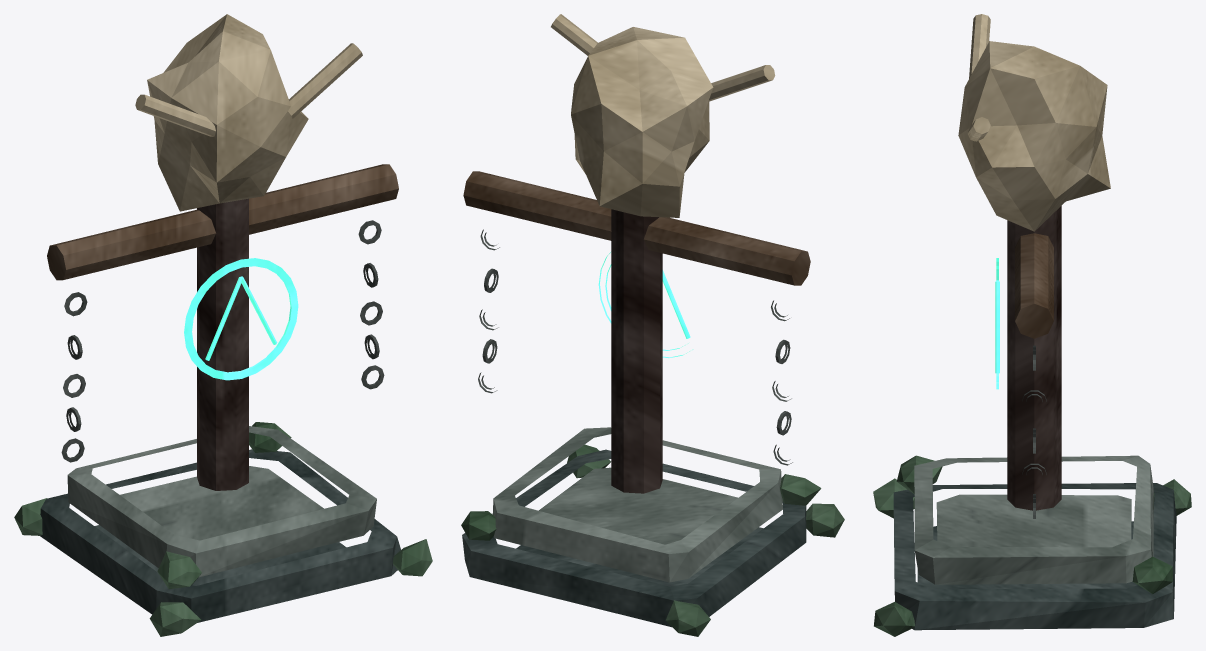
File: 0510_effigy_10.glb
The picture shows the model from 3 angles, left to right: view 1: azimuth 30°, elevation 25°; view 2: azimuth 150°, elevation 25°; view 3: azimuth 270°, elevation 25°; orthographic projection. The views are drawn at different scales.
Visible parts, largest first — view 1: bone, stone, stone_dark, wood_dark, wood, moss, glow, iron; view 2: bone, stone, stone_dark, wood_dark, wood, moss, iron, glow; view 3: bone, stone, stone_dark, wood_dark, moss, wood, glow.
Boxes of the visible parts, x1,y1,x2,y2 form: bone: [135, 14, 362, 211]; stone: [67, 426, 376, 577]; stone_dark: [40, 449, 400, 622]; wood_dark: [197, 198, 248, 490]; wood: [47, 164, 398, 280]; moss: [14, 422, 432, 636]; glow: [184, 258, 298, 380]; iron: [61, 220, 384, 462]; bone: [551, 14, 775, 217]; stone: [492, 427, 782, 582]; stone_dark: [462, 449, 806, 627]; wood_dark: [611, 209, 662, 493]; wood: [463, 171, 810, 285]; moss: [461, 444, 844, 636]; iron: [478, 229, 792, 465]; glow: [598, 252, 693, 358]; bone: [958, 14, 1110, 231]; stone: [914, 455, 1153, 584]; stone_dark: [893, 483, 1176, 630]; wood_dark: [1007, 206, 1061, 510]; moss: [873, 455, 1191, 636]; wood: [1015, 233, 1053, 338]; glow: [995, 258, 999, 389].
Bounding box in the file's own units: 2 × 3 × 1.64.
Materials: 8 (8 with a texture image).
